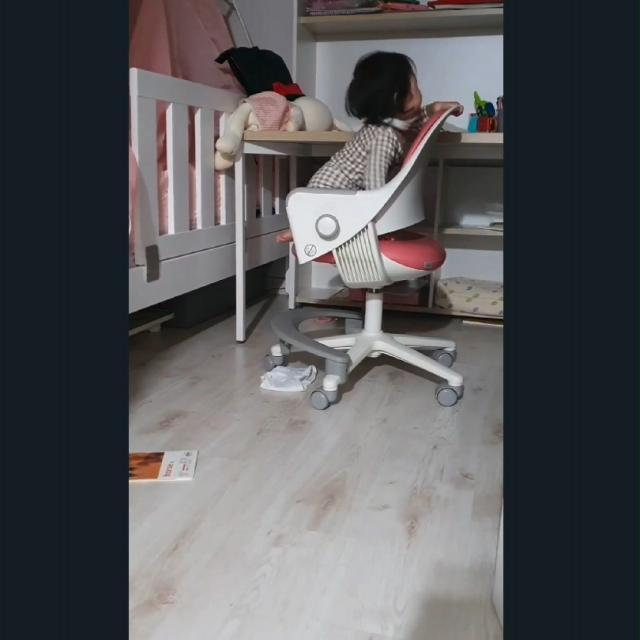child: (278, 48, 425, 238)
